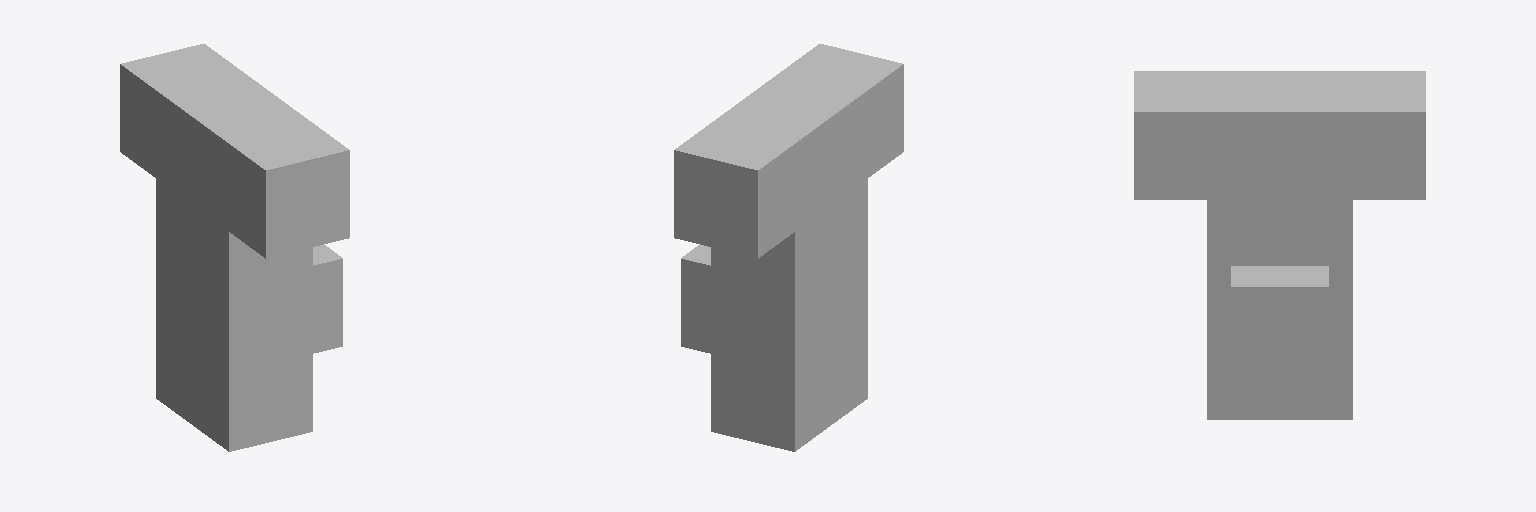
The model's file is hydraulic3.obj.
The picture shows the model from 3 angles: view 1: azimuth 30°, elevation 25°; view 2: azimuth 150°, elevation 25°; view 3: azimuth 270°, elevation 25°; orthographic projection.
Visible parts, largest first — view 1: mount, cube, axle; view 2: mount, cube, axle; view 3: cube, mount, axle.
Boxes of the visible parts, box(x1,y1,x2,y2) form: mount: box(156, 179, 312, 451); cube: box(120, 44, 349, 258); axle: box(313, 245, 342, 353); mount: box(711, 179, 867, 451); cube: box(674, 44, 903, 258); axle: box(681, 245, 710, 353); cube: box(1134, 71, 1425, 199); mount: box(1207, 200, 1352, 419); axle: box(1231, 266, 1328, 374).
Size of the model in its own units: 0.0938 by 0.2188 by 0.1875.